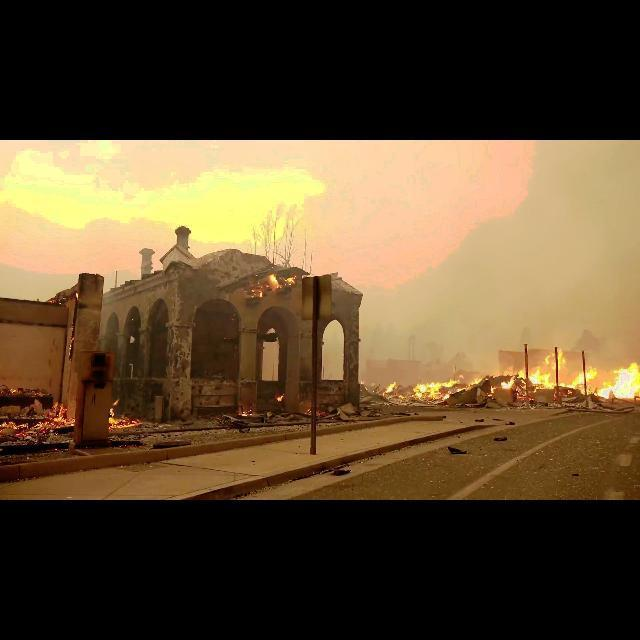Fire: (518, 348, 640, 402), (0, 382, 76, 440), (381, 376, 517, 406), (238, 269, 300, 301), (106, 398, 144, 438), (233, 401, 254, 421), (306, 404, 324, 418), (277, 392, 285, 401)
